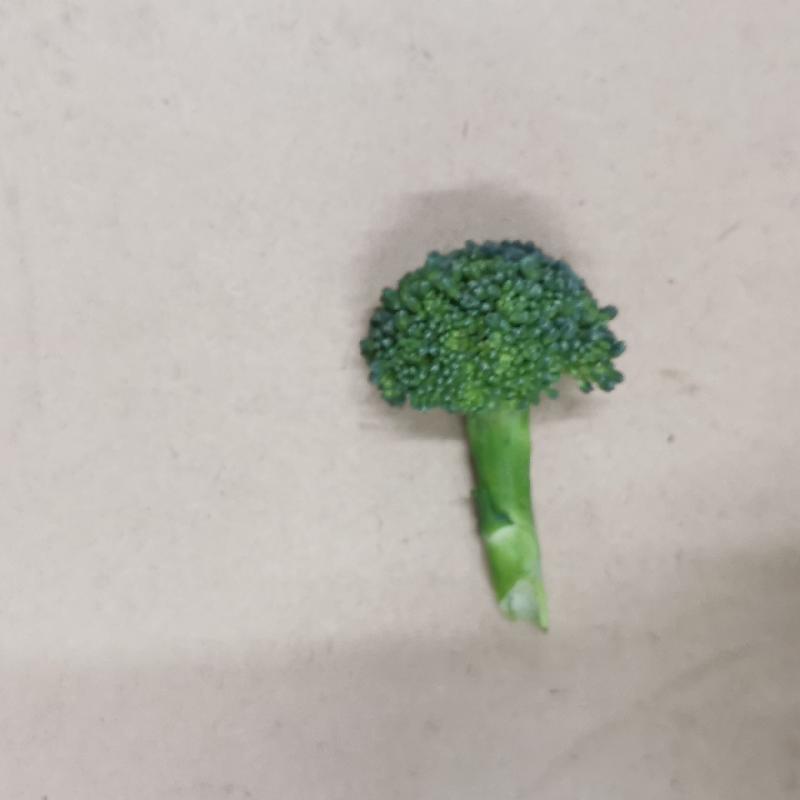broccoli: (358, 233, 630, 646)
